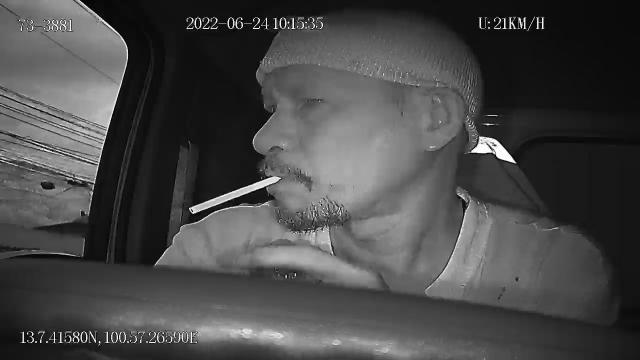Smoking: (188, 173, 286, 217)
